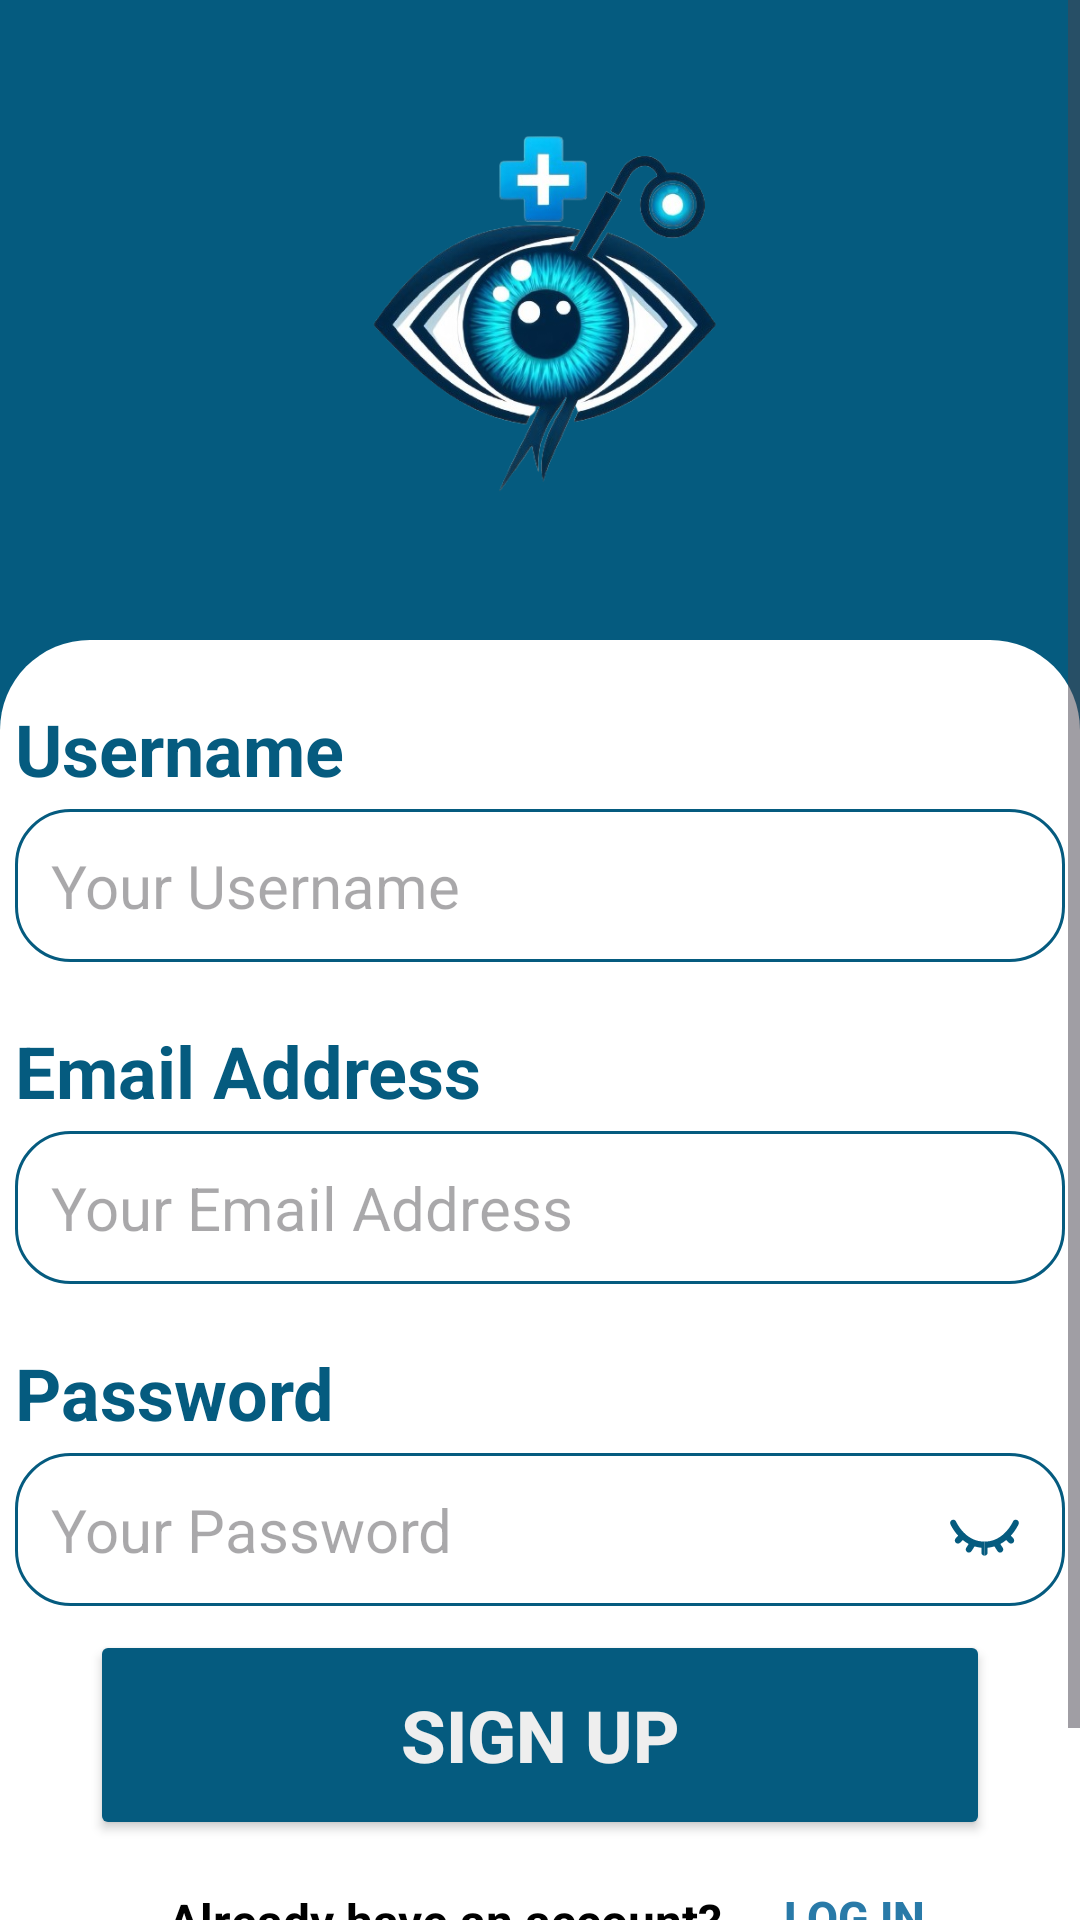

Point at icon controls on the screen. Image size 1080px x 1920px, points as [x,y].
hidden: [984,1537]
